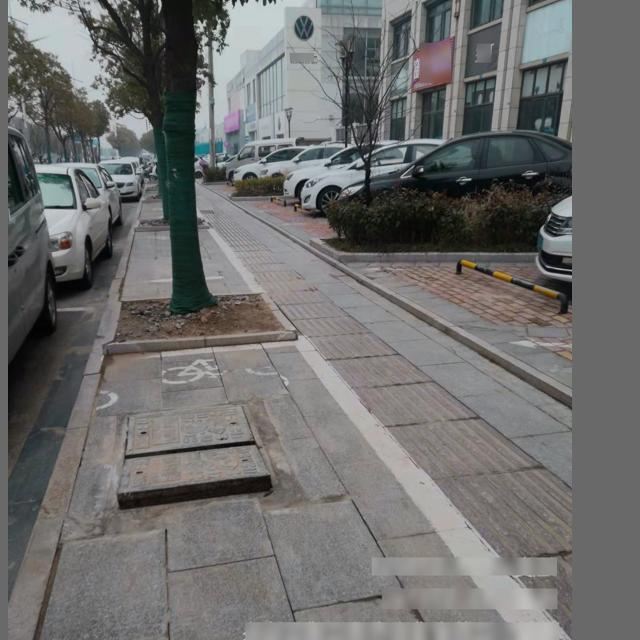uncovered: (108, 379, 265, 517)
